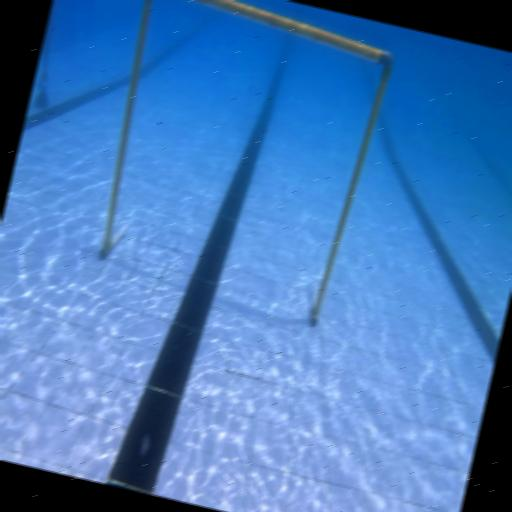gate: (78, 0, 400, 330)
